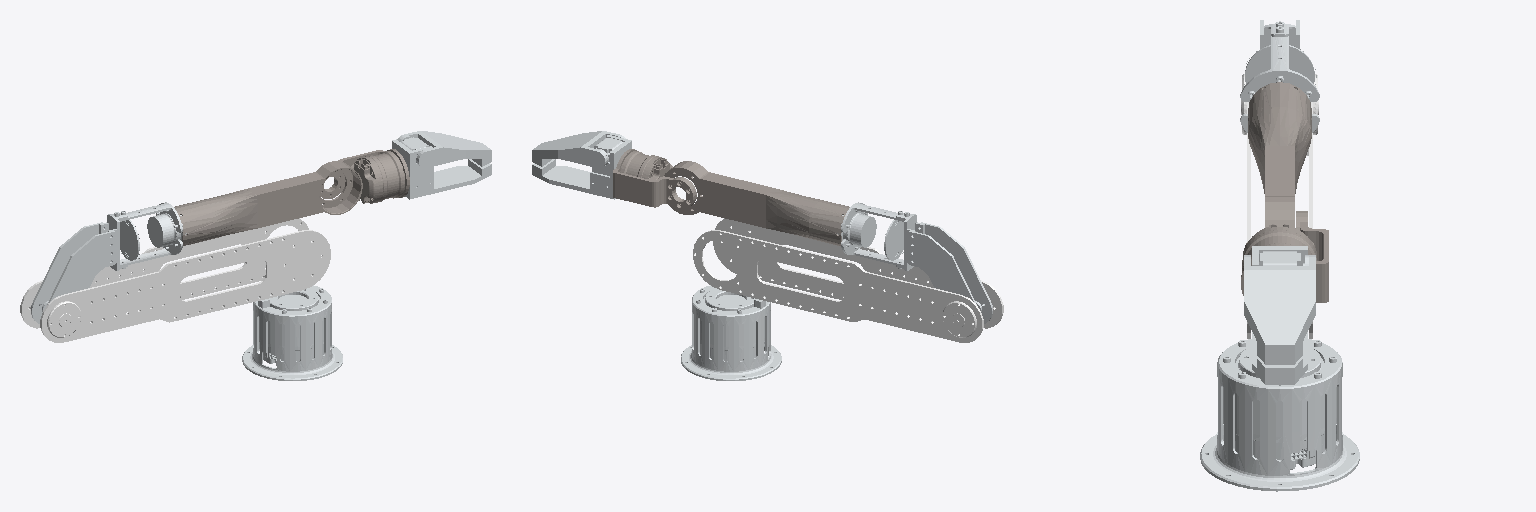
The robot description file, URDF, robot "lion_arm":
<?xml version="1.0" ?>
<robot name="lion_arm">
    <!-- Arm Model ********************************************************************************************************  -->
    <link name="world"/>
    <link name="arm_base_link">
    <inertial>
        <origin
        xyz="-2.655E-05 -0.00013067 0.042361"
        rpy="0 0 0" />
        <mass
        value="0.91201" />
        <inertia
        ixx="0.00076553"
        ixy="3.0928E-06"
        ixz="4.0773E-06"
        iyy="0.000762"
        iyz="-3.7031E-06"
        izz="0.00081713" />
    </inertial>
    <visual>
        <origin
        xyz="0 0 0"
        rpy="0 0 0" />
        <geometry>
        <mesh
            filename="package://lion_armed_description/meshes/arm_base_link.STL" />
        </geometry>
        <material
        name="">
        <color
            rgba="0.89804 0.91765 0.92941 1" />
        </material>
    </visual>
    <collision>
        <origin xyz="0 0 0.04" rpy="0 0 0"/>
        <geometry>
        <cylinder length="0.06" radius="0.045"/>
        </geometry>
    </collision>
    </link>
    <joint name="body_arm" type="fixed">
        <origin
        xyz="0 0 0"
        rpy="0 0 0" />
        <parent
        link="world" />
        <child
        link="arm_base_link" />
        <axis
        xyz="0 0 -1" />
        <limit
        lower="0"
        upper="0"
        effort="0"
        velocity="0" />
    </joint>
    <link name="shoulder_link">
        <inertial>
        <origin
            xyz="4.6648E-05 0.00012015 -0.0013725"
            rpy="0 0 0" />
        <mass
            value="1.8076" />
        <inertia
            ixx="0.0070637"
            ixy="-1.1248E-07"
            ixz="4.2676E-06"
            iyy="0.0014085"
            iyz="-1.6705E-06"
            izz="0.0069672" />
        </inertial>
        <visual>
        <origin
            xyz="0 0 0"
            rpy="0 0 0" />
        <geometry>
            <mesh
            filename="package://lion_armed_description/meshes/shoulder_link.STL" />
        </geometry>
        <material
            name="">
            <color
            rgba="0.89804 0.91765 0.92941 1" />
        </material>
        </visual>
        <collision>
        <origin xyz="0 0 0" rpy="1.5707963 0 0" />
        <geometry>
            <cylinder length="0.2" radius="0.04"/>
        </geometry>
        </collision>
    </link>
    <joint name="joint1" type="revolute">
        <origin
        xyz="0 0 0.128"
        rpy="0 0 0" />
        <parent
        link="arm_base_link" />
        <child
        link="shoulder_link" />
        <axis
        xyz="0 0 -1" />
        <limit
        lower="-2.618"
        upper="2.618"
        effort="15.0"
        velocity="20.0" />
        
    </joint>
    <link name="upper_arm_link">
        <inertial>
        <origin
            xyz="-0.16223 -0.00053457 -9.6145E-14"
            rpy="0 0 0" />
        <mass
            value="0.20654" />
        <inertia
            ixx="0.00017354"
            ixy="4.7067E-05"
            ixz="-8.9112E-16"
            iyy="0.0023721"
            iyz="4.6757E-16"
            izz="0.0023909" />
        </inertial>
        <visual>
        <origin
            xyz="0 0 0"
            rpy="0 0 0" />
        <geometry>
            <mesh
            filename="package://lion_armed_description/meshes/upper_arm_link.STL" />
        </geometry>
        <material
            name="">
            <color
            rgba="1 1 1 1" />
        </material>
        </visual>
        <collision>
        <origin xyz="-0.17 0 0" rpy="0 0 0" />
        <geometry>
            <box size="0.25 0.045 0.06"/> 
        </geometry>
        </collision>
    </link>
    <joint name="joint2" type="revolute">
        <origin
        xyz="0 0 0"
        rpy="0 0 0" />
        <parent
        link="shoulder_link" />
        <child
        link="upper_arm_link" />
        <axis
        xyz="0 1 0" />
        <limit
        lower="0"
        upper="3.665"
        effort="15.0"
        velocity="20.0" />
    </joint>
    <link name="elbow_link">
        <inertial>
        <origin
            xyz="0.0776630957799923 -5.66684882904192E-06 0.0506455368238795"
            rpy="0 0 0" />
        <mass
            value="0.19779615464477" />
        <inertia
            ixx="0.000172309779571075"
            ixy="5.40217940566371E-08"
            ixz="-0.000202557640418278"
            iyy="0.000759104610858122"
            iyz="2.15341009549695E-08"
            izz="0.000636430285987363" />
        </inertial>
        <visual>
        <origin
            xyz="0 0 0"
            rpy="0 0 0" />
        <geometry>
            <mesh
            filename="package://lion_armed_description/meshes/elbow_link.STL" />
        </geometry>
        <material
            name="">
            <color
            rgba="0.898039215686275 0.917647058823529 0.929411764705882 1" />
        </material>
        </visual>
        <collision>
        <origin xyz="0.1 0 0.065" rpy="0 1.5707963 0" />
        <geometry>
            <cylinder radius="0.025" length="0.09"/>
        </geometry>
        </collision>
    </link>
    <joint name="joint3" type="revolute">
        <origin
        xyz="-0.3 0 0"
        rpy="0 0 0" />
        <parent
        link="upper_arm_link" />
        <child
        link="elbow_link" />
        <axis
        xyz="0 -1 0" />
        <limit
        lower="0"
        upper="4.188"
        effort="15.0"
        velocity="20.0" />
    </joint>
    <link name="lower_arm_link">
        <inertial>
        <origin
            xyz="0.259131075077944 0.000561908541381621 1.63162643829207E-06"
            rpy="0 0 0" />
        <mass
            value="0.237992640601958" />
        <inertia
            ixx="8.1971938649496E-05"
            ixy="-1.16251515064919E-05"
            ixz="2.28325579601934E-17"
            iyy="0.00109175485406717"
            iyz="1.11323021885341E-10"
            izz="0.00106324137537677" />
        </inertial>
        <visual>
        <origin
            xyz="0 0 0"
            rpy="0 0 0" />
        <geometry>
            <mesh
            filename="package://lion_armed_description/meshes/lower_arm_link.STL" />
        </geometry>
        <material
            name="">
            <color
            rgba="0.686274509803922 0.658823529411765 0.63921568627451 1" />
        </material>
        </visual>
        <collision>
        <origin xyz="0.27 0 0" rpy="0 0 0" />
        <geometry>
            <box size="0.24 0.025 0.05"/>
        </geometry>
        </collision>
    </link>
    <joint name="joint4" type="revolute">
        <origin
        xyz="0 -4.7023E-05 0.064998"
        rpy="0 0 0" />
        <parent
        link="elbow_link" />
        <child
        link="lower_arm_link" />
        <axis
        xyz="-1 0 0" />
        <limit
        lower="-3.14"
        upper="3.14"
        effort="15.0"
        velocity="20.0" />
    </joint>
    <link name="wrist_link">
        <inertial>
        <origin
            xyz="0.048236 0.0079922 -2.4907E-05"
            rpy="0 0 0" />
        <mass
            value="0.20482" />
        <inertia
            ixx="0.00010001"
            ixy="2.0576E-05"
            ixz="3.8277E-08"
            iyy="0.00015052"
            iyz="-7.2338E-08"
            izz="0.00017601" />
        </inertial>
        <visual>
        <origin
            xyz="0 0 0"
            rpy="0 0 0" />
        <geometry>
            <mesh
            filename="package://lion_armed_description/meshes/wrist_link.STL" />
        </geometry>
        <material
            name="">
            <color
            rgba="0.68627 0.65882 0.63922 1" />
        </material>
        </visual>
        <collision>
        <origin xyz="0.06 0 0" rpy="0 1.5707963 0" />
        <geometry>
            <cylinder radius="0.025" length="0.035"/>
        </geometry>
        </collision>
    </link>
    <joint name="joint5" type="revolute">
        <origin
        xyz="0.354 4.7023E-05 0"
        rpy="0 0 0" />
        <parent
        link="lower_arm_link" />
        <child
        link="wrist_link" />
        <axis
        xyz="0 -1 0" />
        <limit
        lower="-1.571"
        upper="1.571"
        effort="15.0"
        velocity="20.0" />
    </joint>
    <link name="hand_link">
        <inertial>
        <origin
            xyz="0.12082 -0.00020649 0.0038737"
            rpy="0 0 0" />
        <mass
            value="0.34303" />
        <inertia
            ixx="0.0001455"
            ixy="-1.5454E-06"
            ixz="2.0576E-05"
            iyy="0.00041843"
            iyz="3.6627E-07"
            izz="0.00037382" />
        </inertial>
        <visual>
        <origin
            xyz="0 0 0"
            rpy="0 0 0" />
        <geometry>
            <mesh
            filename="package://lion_armed_description/meshes/hand_link.STL" />
        </geometry>
        <material
            name="">
            <color
            rgba="0.89804 0.91765 0.92941 1" />
        </material>
        </visual>
        <collision>
        <origin xyz="0.135 0.01 0" rpy="0 0 0" />
        <geometry>
            <box size="0.1 0.06 0.05"/>
        </geometry>
        </collision>
    </link>
    <joint name="joint6" type="revolute">
        <origin
        xyz="0 0 0"
        rpy="0 0 0" />
        <parent
        link="wrist_link" />
        <child
        link="hand_link" />
        <axis
        xyz="1 0 0" />
        <limit
        lower="-3.14"
        upper="3.14"
        effort="15.0"
        velocity="20.0" />
    </joint>
</robot>

--- Facts derived from the render (not from the file) ---
Views: 3 orthographic renders of the robot side by side, from view 1: azimuth 30°, elevation 25°; view 2: azimuth 150°, elevation 25°; view 3: azimuth 270°, elevation 25°.
Model lion_arm with 8 links and 7 joints (6 revolute, 1 fixed), rooted at world, posed every joint at zero.
Links seen in each view (by area): view 1: upper_arm_link, lower_arm_link, arm_base_link, elbow_link, hand_link, wrist_link; view 2: upper_arm_link, arm_base_link, elbow_link, lower_arm_link, hand_link, wrist_link; view 3: arm_base_link, hand_link, lower_arm_link, elbow_link, wrist_link, upper_arm_link.
Boxes of the visible links, bbox=[...] form: upper_arm_link: bbox=[20, 218, 330, 342]; lower_arm_link: bbox=[174, 161, 362, 245]; arm_base_link: bbox=[242, 285, 342, 380]; elbow_link: bbox=[31, 202, 186, 323]; hand_link: bbox=[392, 131, 491, 199]; wrist_link: bbox=[320, 149, 409, 203]; upper_arm_link: bbox=[693, 218, 1003, 342]; arm_base_link: bbox=[681, 285, 781, 380]; elbow_link: bbox=[837, 202, 992, 323]; lower_arm_link: bbox=[664, 161, 849, 245]; hand_link: bbox=[532, 131, 631, 199]; wrist_link: bbox=[613, 149, 696, 209]; arm_base_link: bbox=[1200, 339, 1359, 491]; hand_link: bbox=[1244, 246, 1315, 384]; lower_arm_link: bbox=[1248, 82, 1311, 227]; elbow_link: bbox=[1240, 20, 1319, 132]; wrist_link: bbox=[1241, 211, 1328, 302]; upper_arm_link: bbox=[1241, 74, 1318, 338].
Size in the robot's own frame: 0.5706 by 0.11 by 0.227 metres.
Meshes: 7 distinct files referenced, 6 mesh visuals loaded (6 binary STL); not drawn: 1 (reference not matched to a file when rendering).